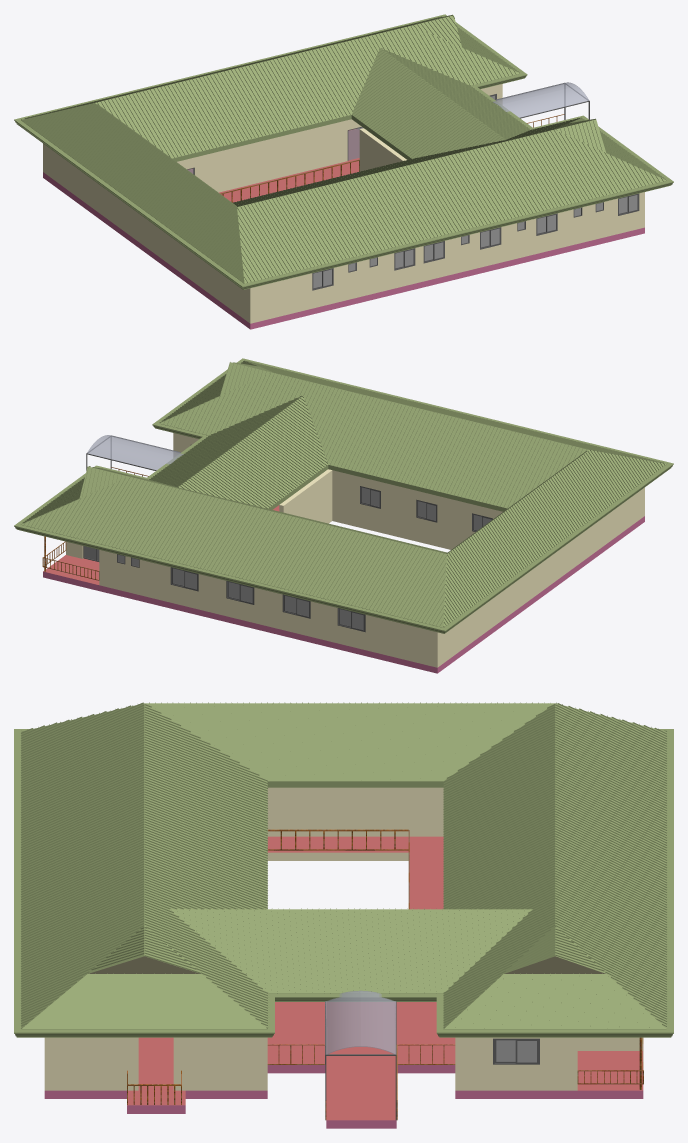
File: Dormitel.glb
3 views of the same model, one above another, from view 1: azimuth 30°, elevation 25°; view 2: azimuth 150°, elevation 25°; view 3: azimuth 270°, elevation 25° (orthographic). The views are drawn at different scales.
Visible parts, largest first — view 1: 3DGeom-1, 3DGeom-4, 3DGeom-3, 3DGeom-6, 3DGeom-5, 3DGeom-103, 3DGeom-78; view 2: 3DGeom-1, 3DGeom-4, 3DGeom-3, 3DGeom-6, 3DGeom-103, 3DGeom-5, 3DGeom-101; view 3: 3DGeom-1, 3DGeom-4, 3DGeom-5, 3DGeom-3, 3DGeom-6, 3DGeom-103, 3DGeom-2, 3DGeom-78, 3DGeom-11, 3DGeom-101.
Boxes of the visible parts, <box> form: 3DGeom-1: <box>21,14,666,283</box>; 3DGeom-4: <box>43,84,644,323</box>; 3DGeom-3: <box>14,14,673,289</box>; 3DGeom-6: <box>43,172,644,329</box>; 3DGeom-5: <box>188,129,359,202</box>; 3DGeom-103: <box>493,82,588,117</box>; 3DGeom-78: <box>220,159,359,202</box>; 3DGeom-1: <box>21,360,666,627</box>; 3DGeom-4: <box>66,433,644,667</box>; 3DGeom-3: <box>14,358,673,633</box>; 3DGeom-6: <box>43,516,644,673</box>; 3DGeom-103: <box>87,435,183,470</box>; 3DGeom-5: <box>43,505,279,584</box>; 3DGeom-101: <box>42,536,99,580</box>; 3DGeom-1: <box>21,702,667,1029</box>; 3DGeom-4: <box>44,787,642,1090</box>; 3DGeom-5: <box>127,836,643,1120</box>; 3DGeom-3: <box>14,729,673,1037</box>; 3DGeom-6: <box>44,1065,643,1128</box>; 3DGeom-103: <box>325,990,396,1054</box>; 3DGeom-2: <box>88,956,605,973</box>; 3DGeom-78: <box>267,829,409,909</box>; 3DGeom-11: <box>496,1040,536,1062</box>; 3DGeom-101: <box>577,1037,643,1089</box>.
Size of the model in its own units: 32.3 by 6.29 by 28.12.
Materials: 12 (1 with a texture image).
